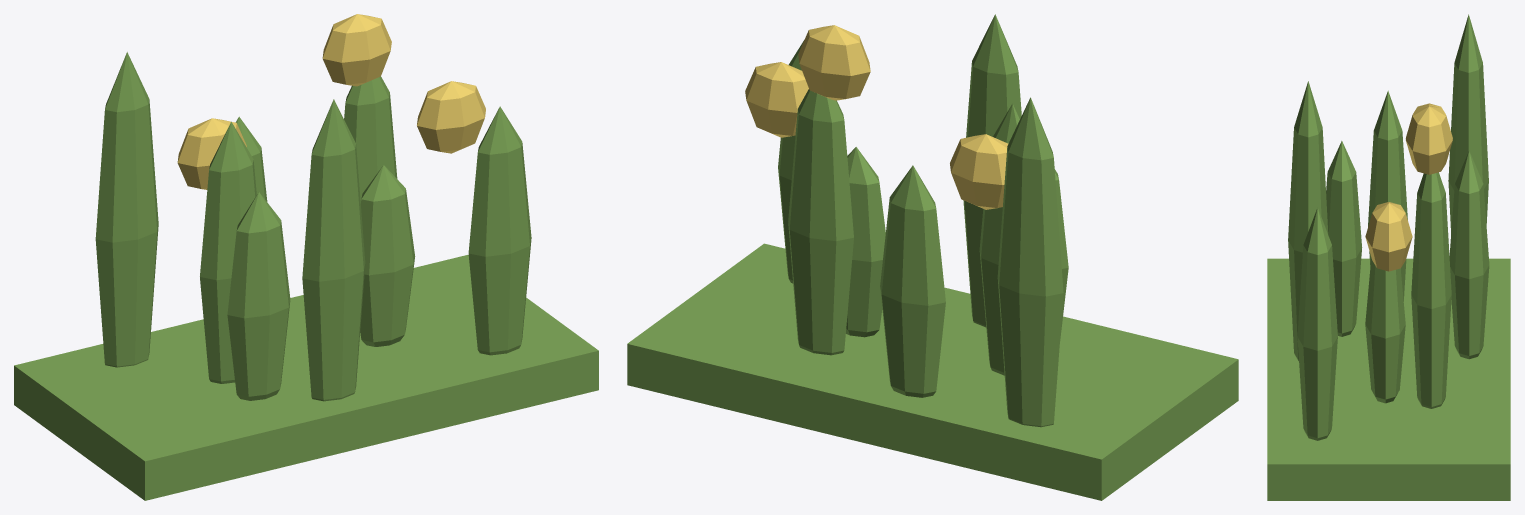
Rendered from GG-VEG-GROUND-COVER-SUCCULENT-001_LOD_GAMEPLAY.glb.
3 renders of one model, left to right at view 1: azimuth 30°, elevation 25°; view 2: azimuth 150°, elevation 25°; view 3: azimuth 270°, elevation 25°, orthographic. The views are drawn at different scales.
Parts seen in each view (by area): view 1: GG_VEG_MOD_BASE_001, GG_VEG_MODULE_4, GG_VEG_MODULE_7, GG_VEG_MODULE_8, GG_VEG_MODULE_6, GG_VEG_MODULE_5, GG_VEG_MODULE_1, GG_VEG_MODULE_2, GG_VEG_ACCENT_2, GG_VEG_ACCENT_1, GG_VEG_ACCENT_3, GG_VEG_MODULE_3; view 2: GG_VEG_MOD_BASE_001, GG_VEG_MODULE_4, GG_VEG_MODULE_2, GG_VEG_MODULE_3, GG_VEG_MODULE_7, GG_VEG_MODULE_1, GG_VEG_ACCENT_2, GG_VEG_ACCENT_1, GG_VEG_ACCENT_3, GG_VEG_MODULE_5, GG_VEG_MODULE_8, GG_VEG_MODULE_6; view 3: GG_VEG_MOD_BASE_001, GG_VEG_MODULE_2, GG_VEG_MODULE_8, GG_VEG_MODULE_3, GG_VEG_MODULE_7, GG_VEG_MODULE_6, GG_VEG_MODULE_4, GG_VEG_MODULE_1, GG_VEG_MODULE_5, GG_VEG_ACCENT_1, GG_VEG_ACCENT_2.
Part boxes in pixels (x1=…): GG_VEG_MOD_BASE_001: x1=14, y1=255, x2=598, y2=500; GG_VEG_MODULE_4: x1=95, y1=52, x2=158, y2=367; GG_VEG_MODULE_7: x1=302, y1=99, x2=365, y2=401; GG_VEG_MODULE_8: x1=468, y1=106, x2=531, y2=355; GG_VEG_MODULE_6: x1=227, y1=192, x2=290, y2=400; GG_VEG_MODULE_5: x1=200, y1=121, x2=256, y2=383; GG_VEG_MODULE_1: x1=360, y1=165, x2=415, y2=346; GG_VEG_MODULE_2: x1=344, y1=76, x2=397, y2=203; GG_VEG_ACCENT_2: x1=322, y1=14, x2=391, y2=86; GG_VEG_ACCENT_1: x1=417, y1=81, x2=485, y2=153; GG_VEG_ACCENT_3: x1=177, y1=118, x2=246, y2=189; GG_VEG_MODULE_3: x1=235, y1=116, x2=267, y2=201; GG_VEG_MOD_BASE_001: x1=627, y1=243, x2=1238, y2=500; GG_VEG_MODULE_4: x1=997, y1=97, x2=1063, y2=427; GG_VEG_MODULE_2: x1=788, y1=89, x2=853, y2=355; GG_VEG_MODULE_3: x1=880, y1=165, x2=945, y2=397; GG_VEG_MODULE_7: x1=963, y1=14, x2=1021, y2=327; GG_VEG_MODULE_1: x1=846, y1=147, x2=885, y2=337; GG_VEG_ACCENT_2: x1=798, y1=25, x2=870, y2=100; GG_VEG_ACCENT_1: x1=745, y1=62, x2=808, y2=137; GG_VEG_ACCENT_3: x1=950, y1=134, x2=1008, y2=209; GG_VEG_MODULE_5: x1=979, y1=104, x2=1019, y2=375; GG_VEG_MODULE_8: x1=778, y1=40, x2=804, y2=283; GG_VEG_MODULE_6: x1=1054, y1=169, x2=1068, y2=340; GG_VEG_MOD_BASE_001: x1=1267, y1=258, x2=1510, y2=500; GG_VEG_MODULE_2: x1=1411, y1=172, x2=1451, y2=408; GG_VEG_MODULE_8: x1=1297, y1=207, x2=1337, y2=440; GG_VEG_MODULE_3: x1=1449, y1=150, x2=1489, y2=359; GG_VEG_MODULE_7: x1=1288, y1=81, x2=1328, y2=360; GG_VEG_MODULE_6: x1=1326, y1=141, x2=1362, y2=336; GG_VEG_MODULE_4: x1=1448, y1=14, x2=1488, y2=233; GG_VEG_MODULE_1: x1=1365, y1=258, x2=1405, y2=403; GG_VEG_MODULE_5: x1=1368, y1=90, x2=1407, y2=301; GG_VEG_ACCENT_1: x1=1365, y1=202, x2=1412, y2=271; GG_VEG_ACCENT_2: x1=1406, y1=105, x2=1452, y2=174.
Bounding box in the file's own units: 0.72 × 0.5487 × 0.36.
